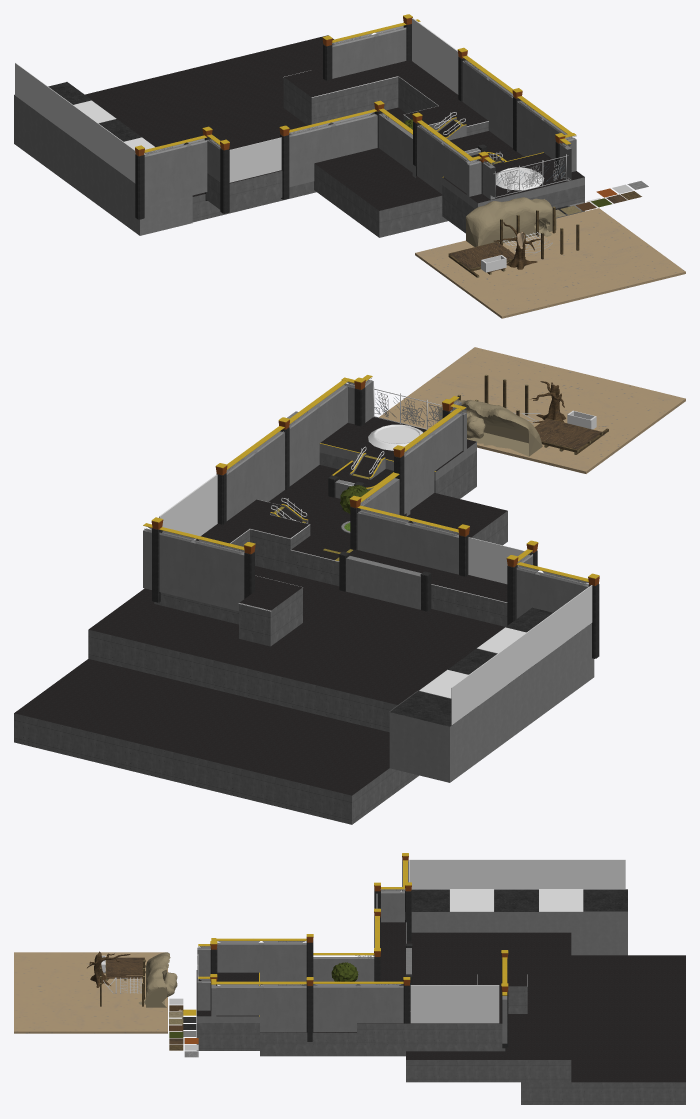
File: MyHome.fbx
3 renders of one model, top to bottom at view 1: azimuth 30°, elevation 25°; view 2: azimuth 150°, elevation 25°; view 3: azimuth 270°, elevation 25°, orthographic. The views are drawn at different scales.
Visible parts, largest first — view 1: SplStage, Floor, MudHouse, Cube.001, Textures, Spawner, Wood; view 2: SplStage, Floor, MudHouse, Cube.001, Spawner; view 3: SplStage, Floor, Textures, MudHouse, Cube.001, ToonTree, Wood.
Boxes of the visible parts, bbox=[...] form: SplStage: bbox=[14, 14, 584, 237]; Floor: bbox=[415, 208, 685, 318]; MudHouse: bbox=[465, 197, 556, 246]; Cube.001: bbox=[448, 206, 579, 277]; Textures: bbox=[555, 181, 648, 217]; Spawner: bbox=[496, 167, 544, 190]; Wood: bbox=[494, 222, 542, 269]; SplStage: bbox=[14, 375, 599, 824]; Floor: bbox=[379, 347, 685, 473]; MudHouse: bbox=[438, 400, 542, 456]; Cube.001: bbox=[457, 374, 608, 454]; Spawner: bbox=[368, 424, 423, 450]; SplStage: bbox=[196, 853, 685, 1104]; Floor: bbox=[14, 952, 167, 1033]; Textures: bbox=[169, 998, 198, 1057]; MudHouse: bbox=[139, 952, 177, 1007]; Cube.001: bbox=[100, 957, 145, 1006]; ToonTree: bbox=[331, 962, 358, 981]; Wood: bbox=[87, 951, 130, 987].
Size of the model in its own units: 55.81 by 18.1 by 94.57.
